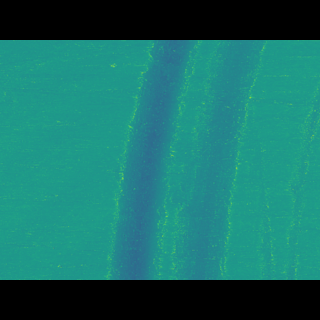Loch: (104, 70, 267, 249), (276, 109, 320, 250)
